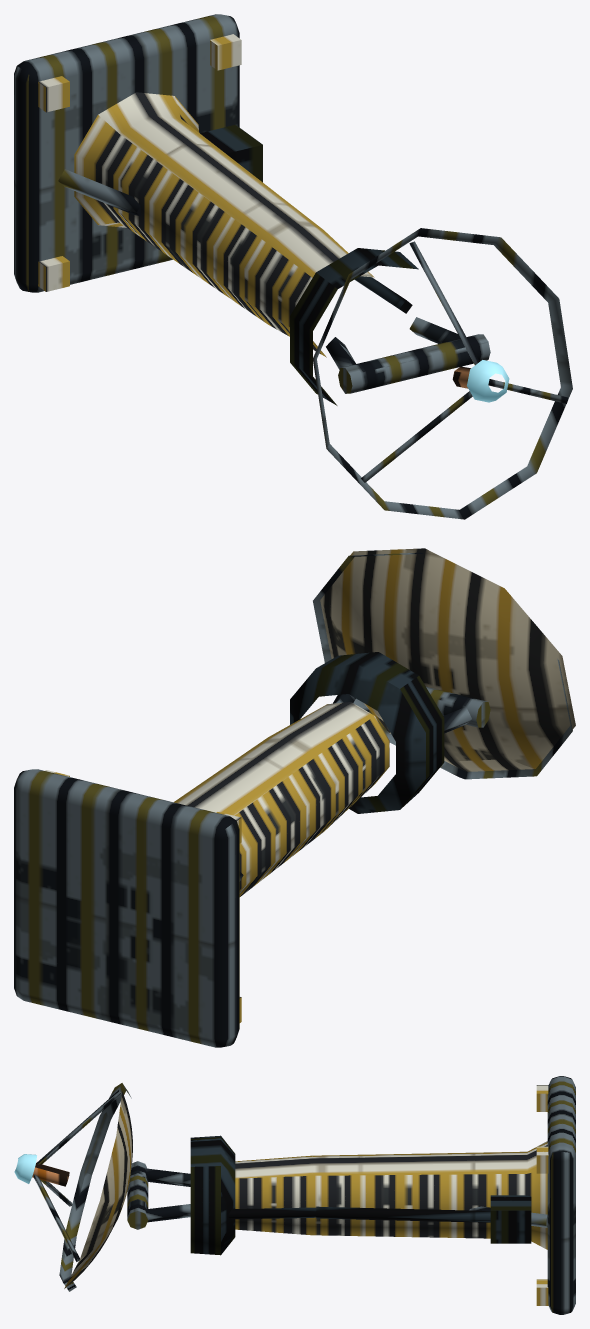
Rendered from sensor_mast.glb.
3 views of the same model, one above another, from view 1: azimuth 30°, elevation 25°; view 2: azimuth 150°, elevation 25°; view 3: azimuth 270°, elevation 25° (orthographic). The views are drawn at different scales.
Visible parts, largest first — view 1: merged-667681, merged-e2e3d8, merged-202e38, merged-9fc0c8; view 2: merged-667681, merged-cfc7ae, merged-e2e3d8, merged-202e38; view 3: merged-e2e3d8, merged-667681, merged-202e38, merged-cfc7ae, merged-c88755, merged-9fc0c8.
Boxes of the visible parts, x1,y1,x2,y2 form: merged-667681: (14,14,572,519); merged-e2e3d8: (38,34,374,357); merged-202e38: (200,124,418,405); merged-9fc0c8: (467,360,509,402); merged-667681: (14,552,572,1047); merged-cfc7ae: (320,548,575,771); merged-e2e3d8: (45,702,389,1022); merged-202e38: (290,652,444,813); merged-e2e3d8: (235,1085,548,1305); merged-667681: (34,1076,575,1314); merged-202e38: (190,1135,531,1255); merged-cfc7ae: (64,1091,132,1288); merged-c88755: (32,1163,69,1186); merged-9fc0c8: (14,1154,36,1183).
Size of the model in its own units: 5.17 by 5.22 by 13.85.
Materials: 6 (5 with a texture image).
